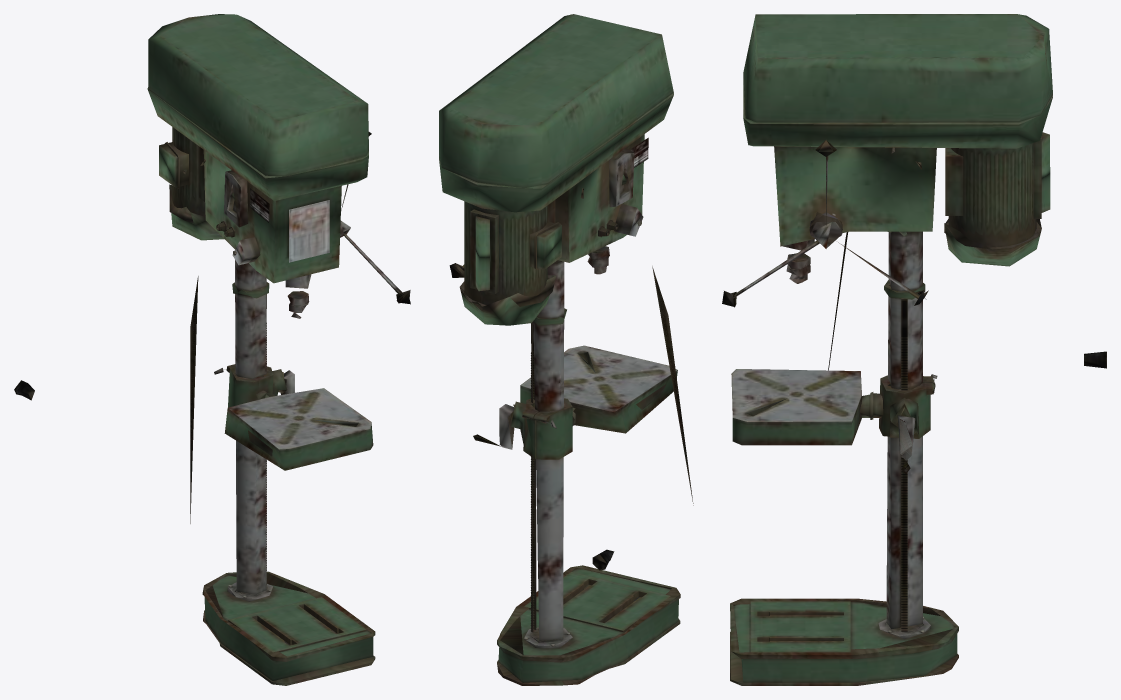
File: old_drill_press.glb
3 renders of one model, left to right at view 1: azimuth 30°, elevation 25°; view 2: azimuth 150°, elevation 25°; view 3: azimuth 270°, elevation 25°, orthographic. The views are drawn at different scales.
Parts seen in each view (by area): view 1: old_drill_press_cable; view 2: old_drill_press_cable; view 3: old_drill_press_cable.
Boxes of the visible parts, box(x1,y1,x2,y2) form: old_drill_press_cable: box(14, 14, 410, 685); old_drill_press_cable: box(439, 14, 693, 685); old_drill_press_cable: box(722, 14, 1106, 685).
Bounding box in the file's own units: 0.4573 × 1.05 × 0.5894.
1 material, 1 textured.
